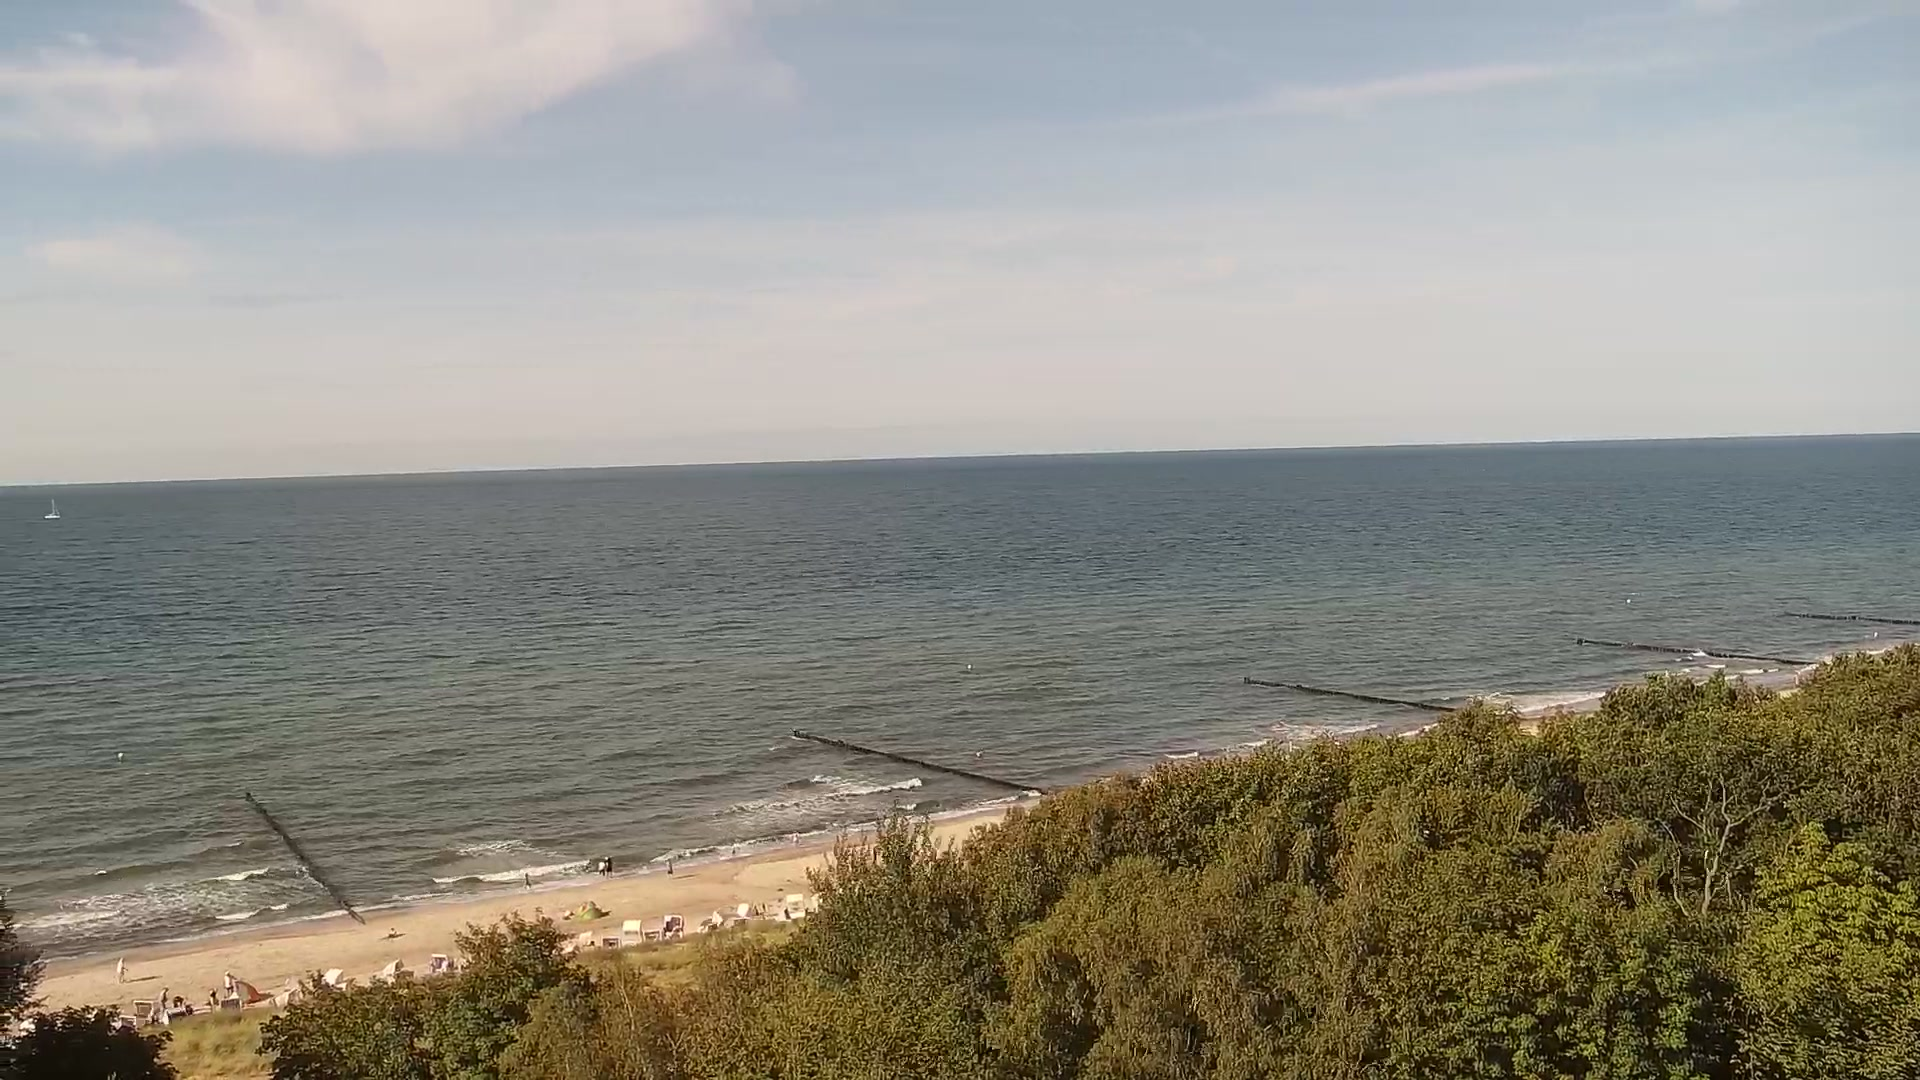human: (115, 955, 127, 982), (223, 969, 235, 997), (173, 995, 189, 1010), (208, 987, 219, 1007), (159, 986, 169, 1009), (606, 856, 614, 877), (598, 858, 606, 876), (664, 857, 673, 876), (523, 871, 531, 889), (792, 830, 801, 845), (388, 926, 397, 939)
sea: (43, 497, 60, 519)
